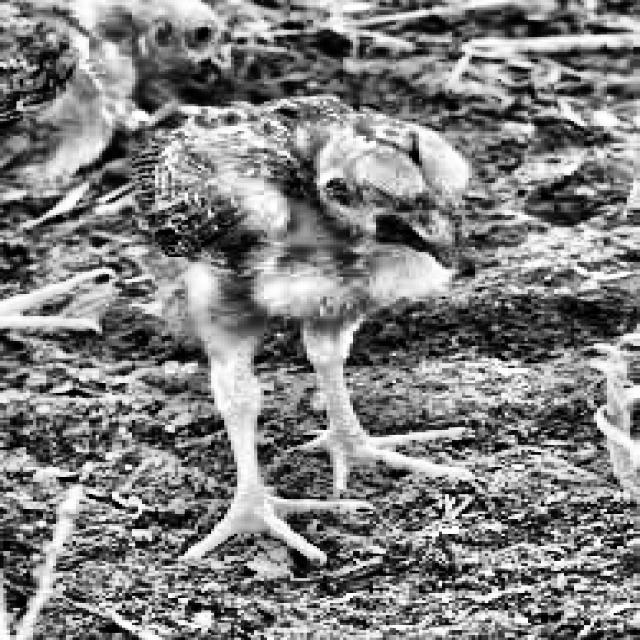Fowlpox: (280, 134, 498, 288)
